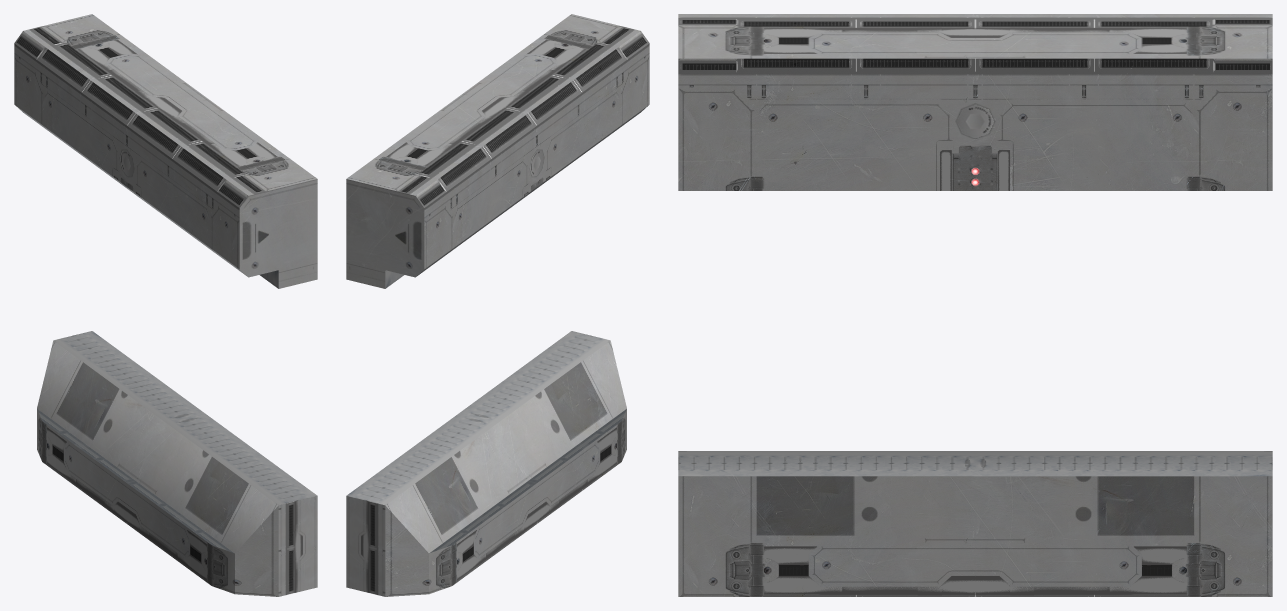
The model's file is SM_WallFrameStraight.fbx.
3 renders of one model, left to right at view 1: azimuth 30°, elevation 25°; view 2: azimuth 150°, elevation 25°; view 3: azimuth 270°, elevation 25°, orthographic. The views are drawn at different scales.
Visible parts, largest first — view 1: SM_WallFrameStraight_LOD0; view 2: SM_WallFrameStraight_LOD0; view 3: SM_WallFrameStraight_LOD0.
Boxes of the visible parts, x1=… form: SM_WallFrameStraight_LOD0: x1=14, y1=14, x2=317, y2=596; SM_WallFrameStraight_LOD0: x1=346, y1=14, x2=649, y2=596; SM_WallFrameStraight_LOD0: x1=678, y1=14, x2=1272, y2=596.
Size of the model in its own units: 40 by 200 by 200.
Materials: 2 (2 with a texture image).
